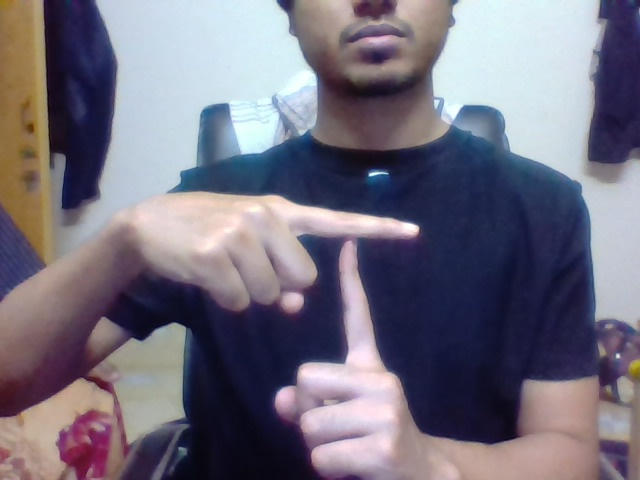T: (319, 204, 430, 344)
